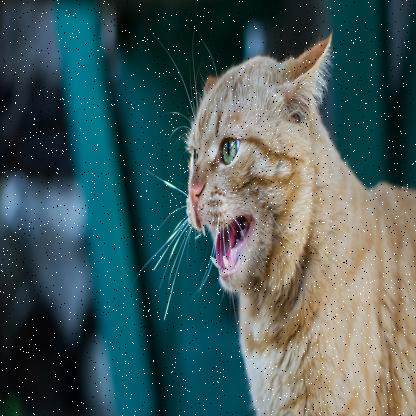cat: (173, 27, 416, 413)
